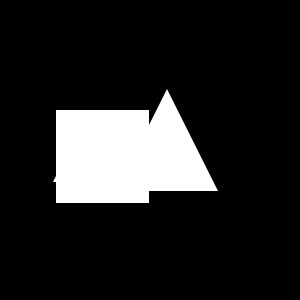circle: (56, 110, 149, 203)
triangle: (116, 89, 218, 191), (53, 133, 102, 182)
